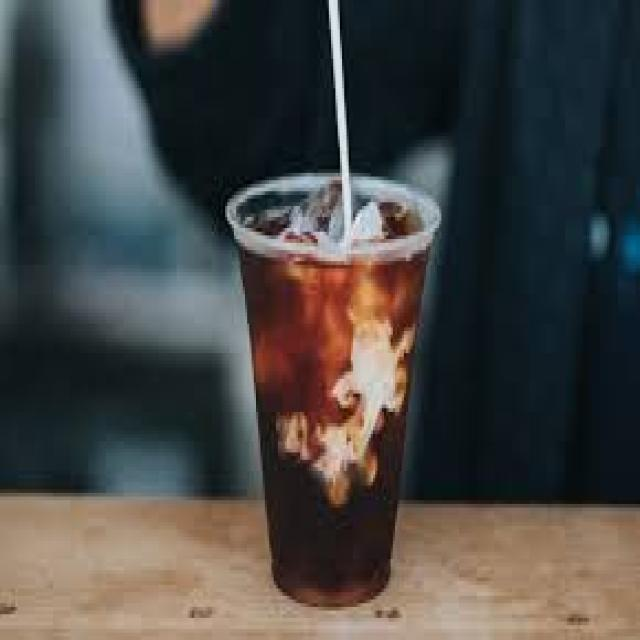bottle: (226, 175, 440, 603)
